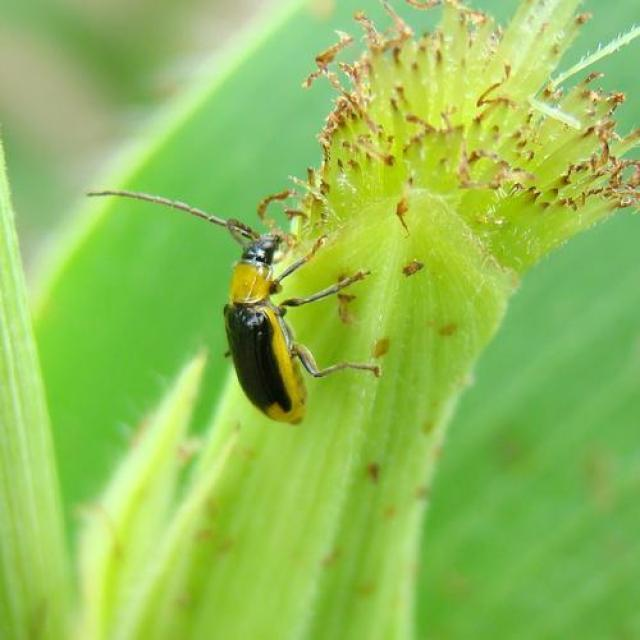trips: (88, 185, 382, 426)
